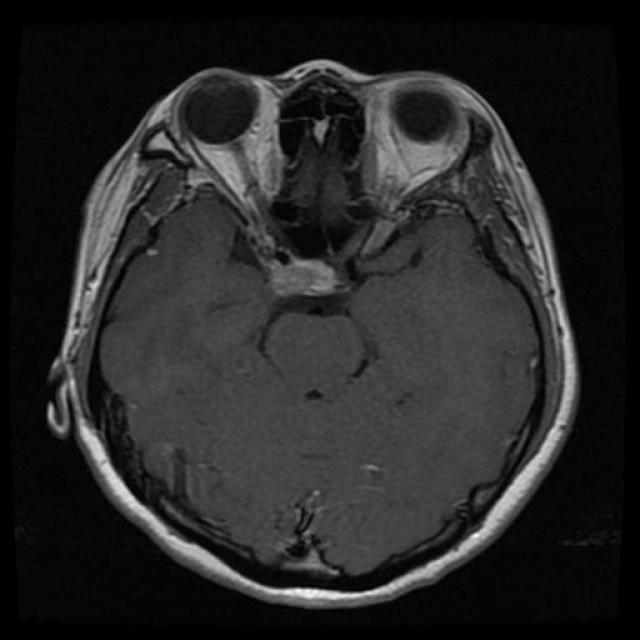pituitary: (261, 236, 376, 316)
